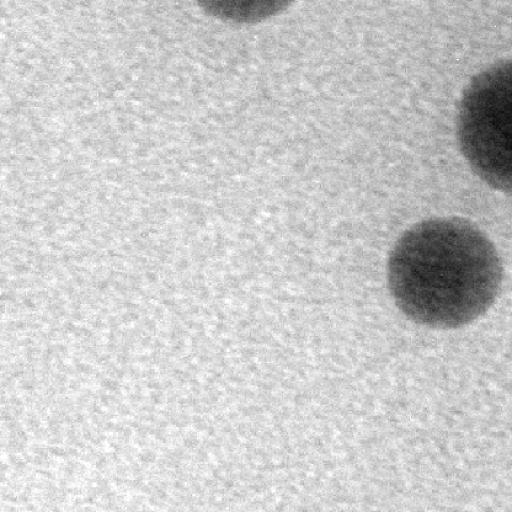Nanoparticles: (389, 216, 504, 328), (457, 60, 511, 196), (196, 0, 293, 27)
